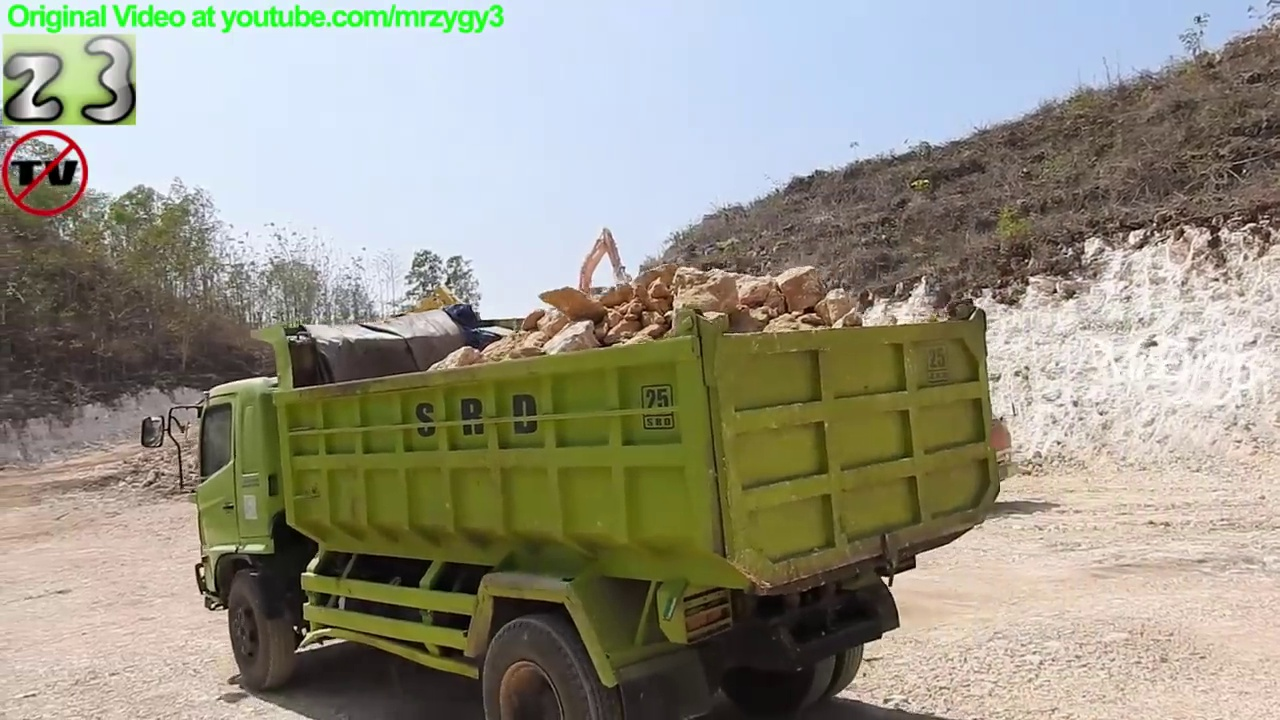excavator: (327, 278, 506, 467), (533, 223, 651, 350)
truck: (134, 292, 1010, 720), (540, 343, 1023, 548)
